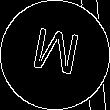M_S: (28, 26, 82, 84)
